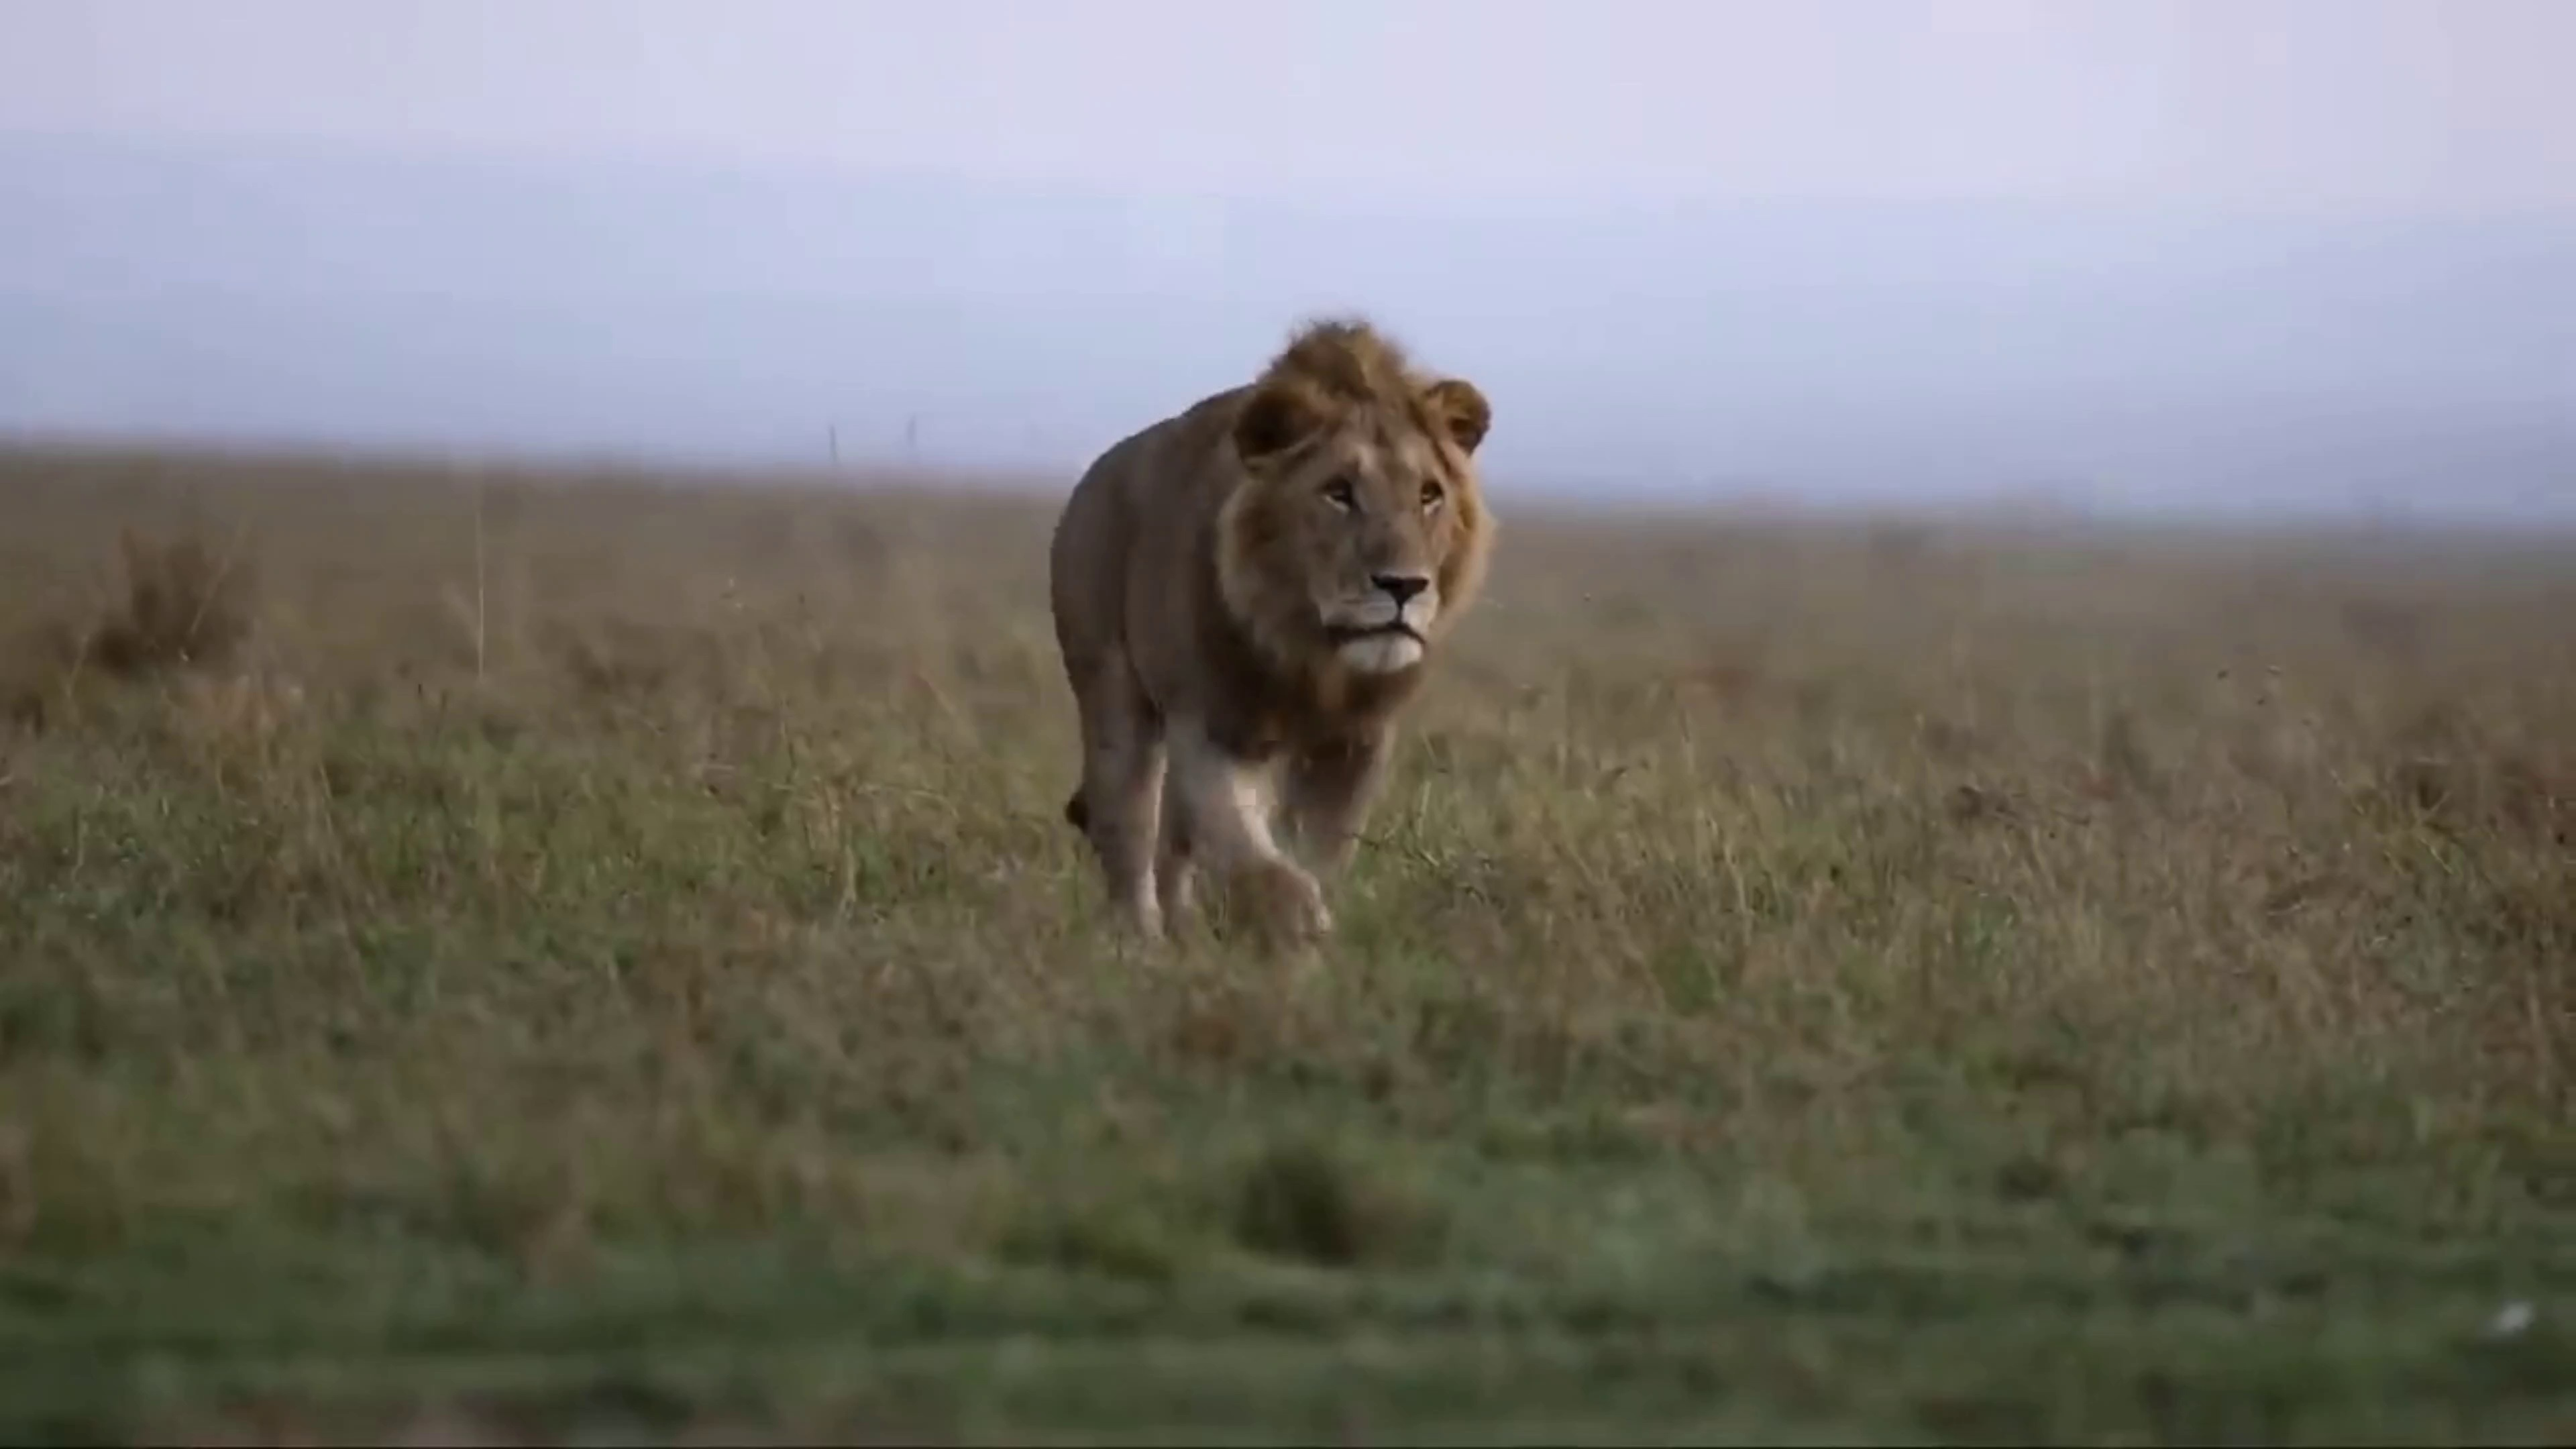Lion: (1049, 322, 1495, 964)
